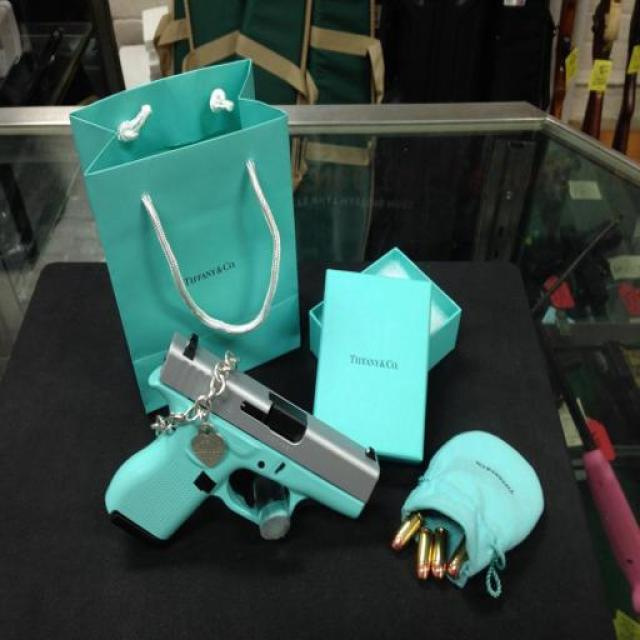pistol: (104, 336, 380, 555)
